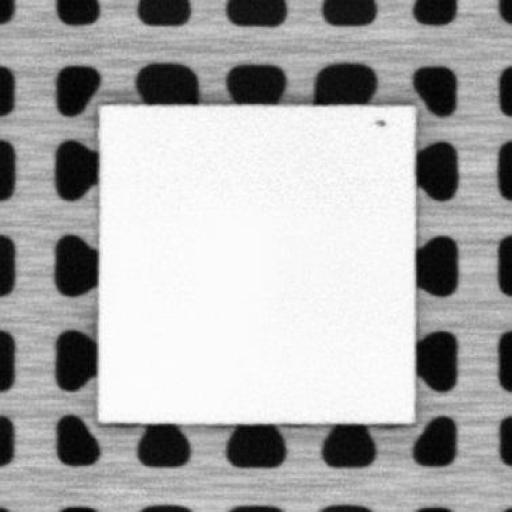DIE_INK: (370, 113, 387, 127)
